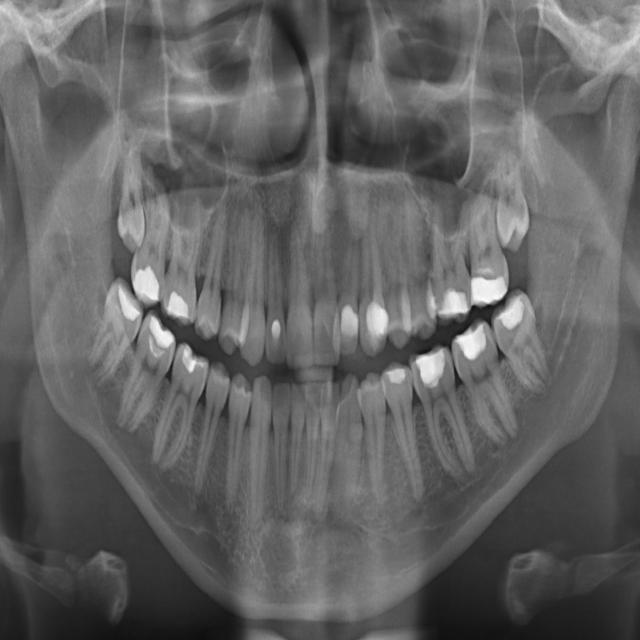CompositeResinRestoration: (455, 322, 488, 361), (416, 346, 445, 385), (367, 296, 390, 344), (116, 278, 138, 322), (134, 263, 158, 301), (437, 291, 469, 317), (499, 297, 523, 331), (340, 304, 361, 339), (384, 363, 407, 392), (167, 288, 187, 320), (473, 288, 508, 305), (178, 348, 196, 378), (271, 315, 283, 351)
Crown: (472, 274, 497, 300)
ImpactedTooth: (112, 159, 150, 257)
